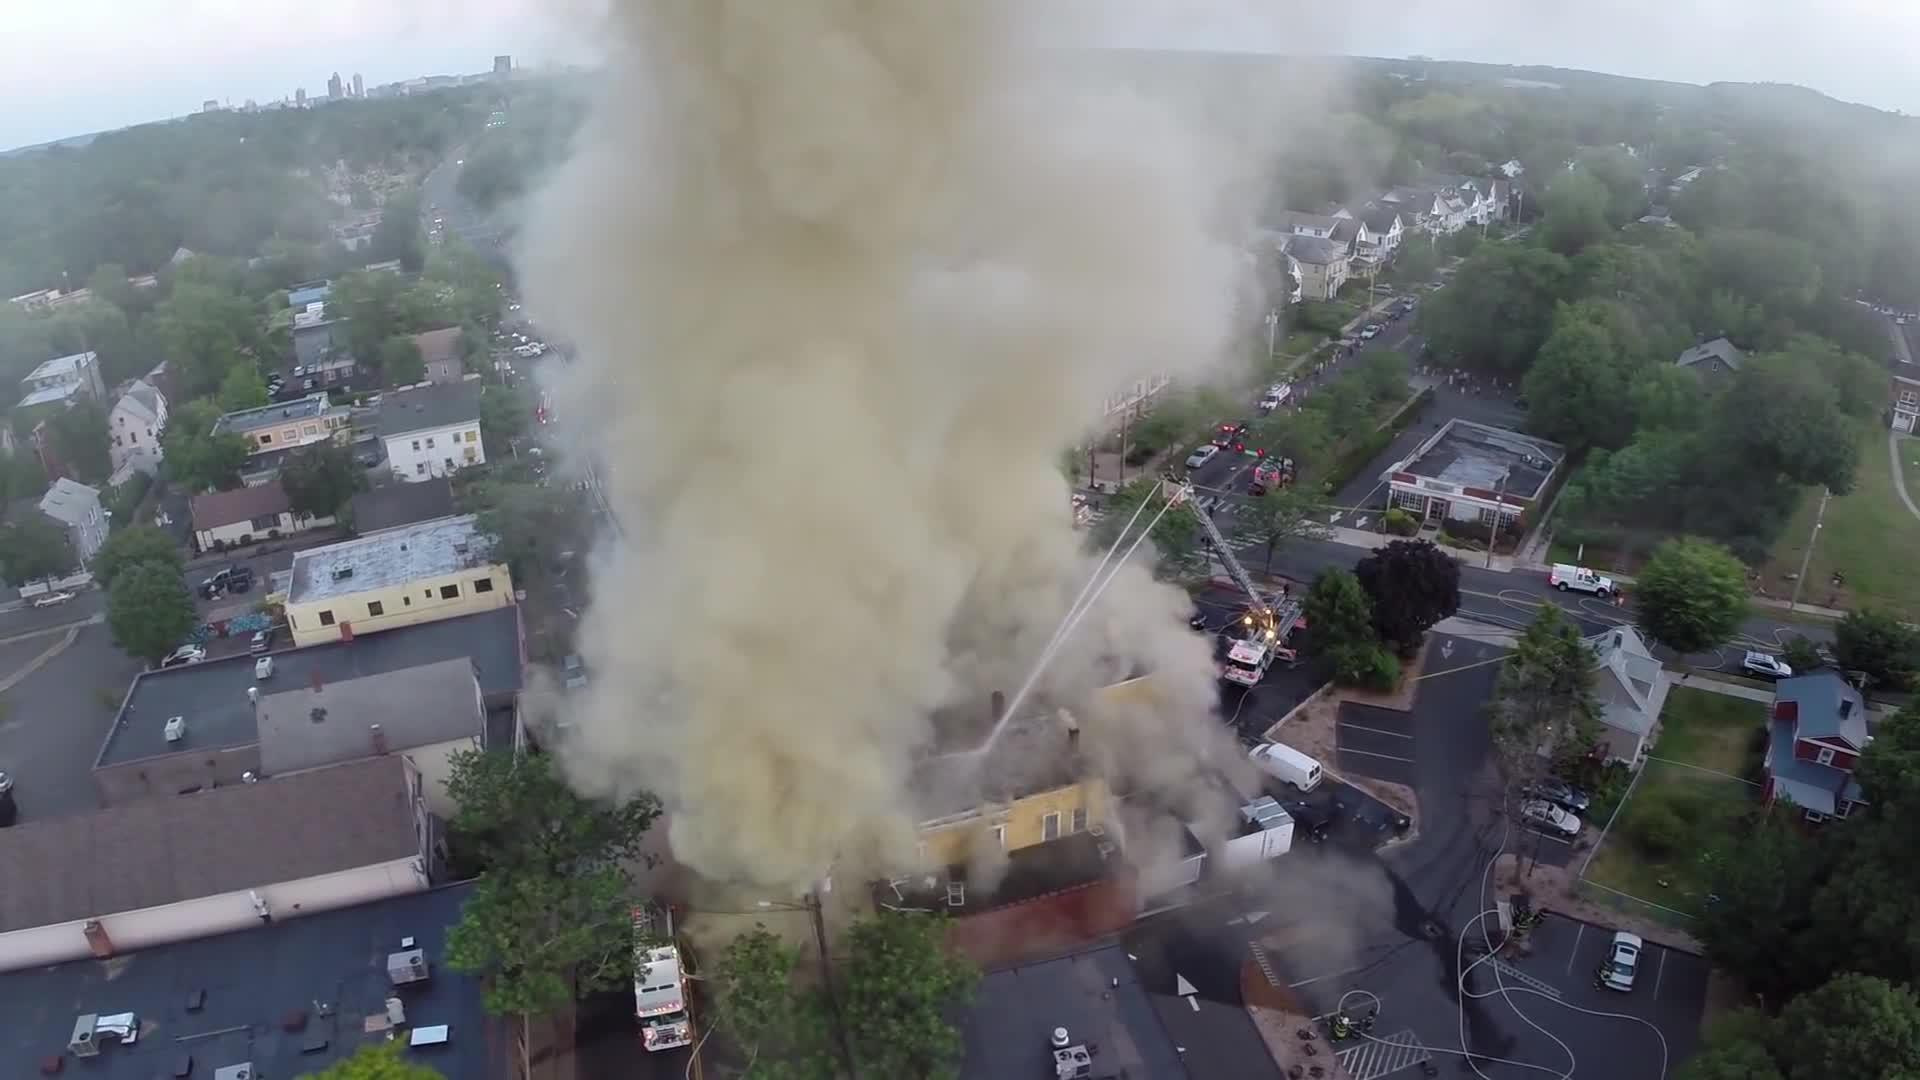smoke: (636, 88, 1010, 721)
